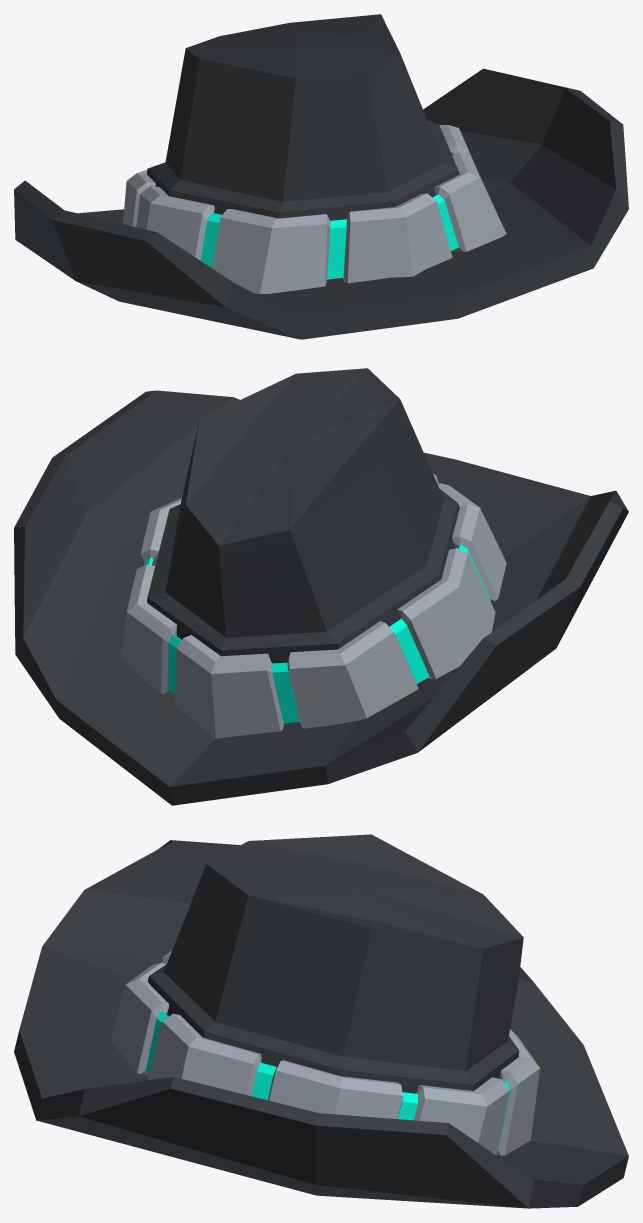
The model's file is SM_Chr_Attach_Hat_04.fbx.
The picture shows the model from 3 angles, top to bottom: view 1: azimuth 30°, elevation 25°; view 2: azimuth 150°, elevation 25°; view 3: azimuth 270°, elevation 25°; orthographic projection. The views are drawn at different scales.
Visible parts, largest first — view 1: SM_Chr_Attach_Hat_04; view 2: SM_Chr_Attach_Hat_04; view 3: SM_Chr_Attach_Hat_04.
Part boxes in pixels (bbox=[...]): SM_Chr_Attach_Hat_04: bbox=[14, 14, 628, 339]; SM_Chr_Attach_Hat_04: bbox=[14, 368, 628, 805]; SM_Chr_Attach_Hat_04: bbox=[14, 834, 628, 1208].
Size of the model in its own units: 50.85 by 27.07 by 48.07.
